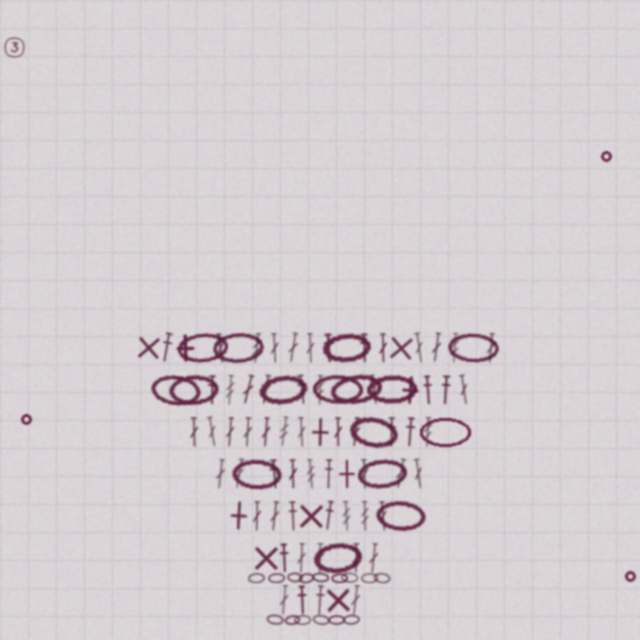chain: (328, 371, 384, 408), (347, 413, 401, 451), (149, 372, 203, 408), (257, 372, 310, 408), (312, 540, 364, 575), (356, 457, 409, 491), (176, 331, 229, 365), (321, 331, 373, 365), (212, 331, 265, 364), (375, 499, 427, 532), (168, 373, 220, 406), (231, 458, 283, 490), (447, 332, 499, 364), (312, 374, 364, 405), (419, 417, 472, 447), (366, 374, 417, 405), (312, 614, 330, 626), (373, 572, 391, 584), (284, 614, 301, 626), (298, 572, 315, 584), (266, 614, 284, 625), (343, 614, 360, 625), (312, 572, 329, 583), (341, 572, 358, 583), (287, 572, 303, 583), (294, 615, 311, 625), (328, 615, 345, 625), (248, 573, 265, 583), (268, 573, 285, 583), (331, 573, 348, 583), (361, 573, 378, 583)
double: (240, 374, 256, 405), (393, 458, 408, 489), (232, 458, 246, 489), (205, 416, 219, 447), (259, 374, 273, 405), (367, 374, 381, 405), (457, 374, 471, 405), (286, 332, 300, 363), (412, 332, 426, 363), (412, 458, 425, 489), (430, 332, 443, 363), (349, 585, 362, 615), (367, 543, 380, 573), (268, 501, 281, 531), (214, 459, 227, 489), (349, 417, 362, 447), (214, 333, 227, 363), (278, 585, 290, 615), (377, 501, 389, 531), (224, 417, 236, 447), (260, 417, 272, 447), (485, 333, 497, 363), (296, 543, 307, 573), (359, 459, 370, 489), (242, 417, 253, 447), (296, 417, 307, 447), (269, 333, 280, 363), (305, 333, 316, 363), (315, 543, 325, 573), (351, 543, 361, 573), (252, 501, 262, 531), (288, 459, 298, 489), (189, 417, 199, 447), (333, 417, 343, 447), (378, 333, 388, 363)
half_double: (158, 332, 175, 363), (322, 500, 336, 531), (295, 374, 309, 405), (403, 417, 417, 447), (268, 459, 281, 489), (439, 375, 452, 405), (322, 333, 335, 363), (296, 585, 308, 615), (314, 585, 326, 615), (278, 543, 290, 573), (287, 501, 299, 531), (206, 375, 218, 405), (422, 375, 434, 405), (323, 459, 334, 489), (386, 417, 397, 447), (359, 333, 370, 363)
noise: (2, 35, 26, 59), (19, 412, 33, 426), (623, 569, 637, 583), (600, 150, 613, 163)
single: (394, 374, 426, 406), (385, 332, 417, 364), (223, 500, 254, 531), (133, 332, 164, 363), (323, 585, 353, 615), (251, 543, 281, 573), (296, 501, 326, 531), (332, 459, 362, 489), (305, 417, 335, 447), (170, 333, 200, 363)
treble: (277, 416, 291, 447), (250, 333, 263, 363), (305, 459, 317, 489), (224, 375, 236, 405), (341, 501, 352, 531), (422, 417, 433, 447), (449, 333, 460, 363), (360, 501, 370, 531), (315, 375, 325, 405)
